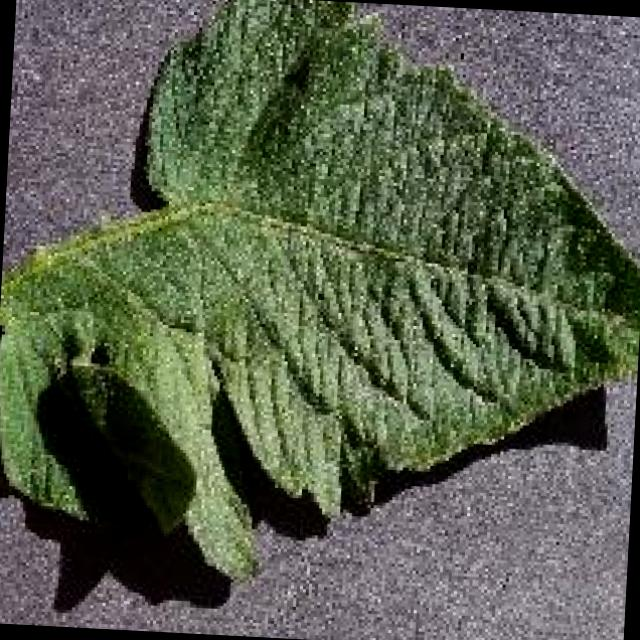healthy: (0, 0, 640, 579)
